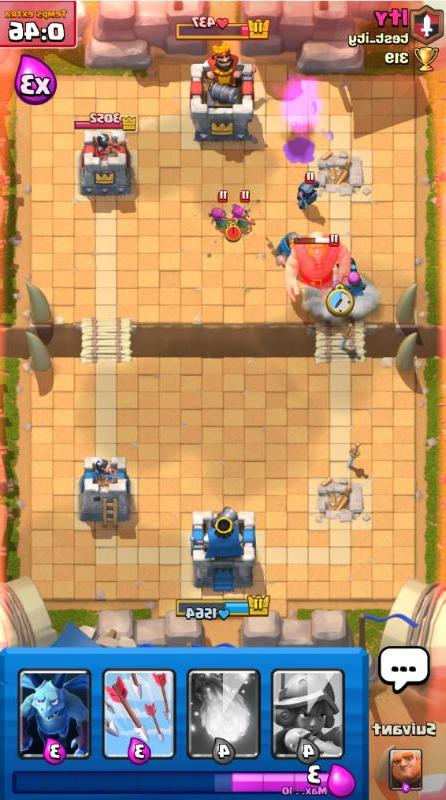archere: (207, 190, 235, 230), (230, 190, 255, 232), (344, 272, 367, 298), (328, 280, 347, 293)
chevalier: (275, 231, 306, 269)
geant: (284, 231, 352, 303)
mini_PEKKA: (296, 171, 320, 209), (336, 256, 359, 274)
